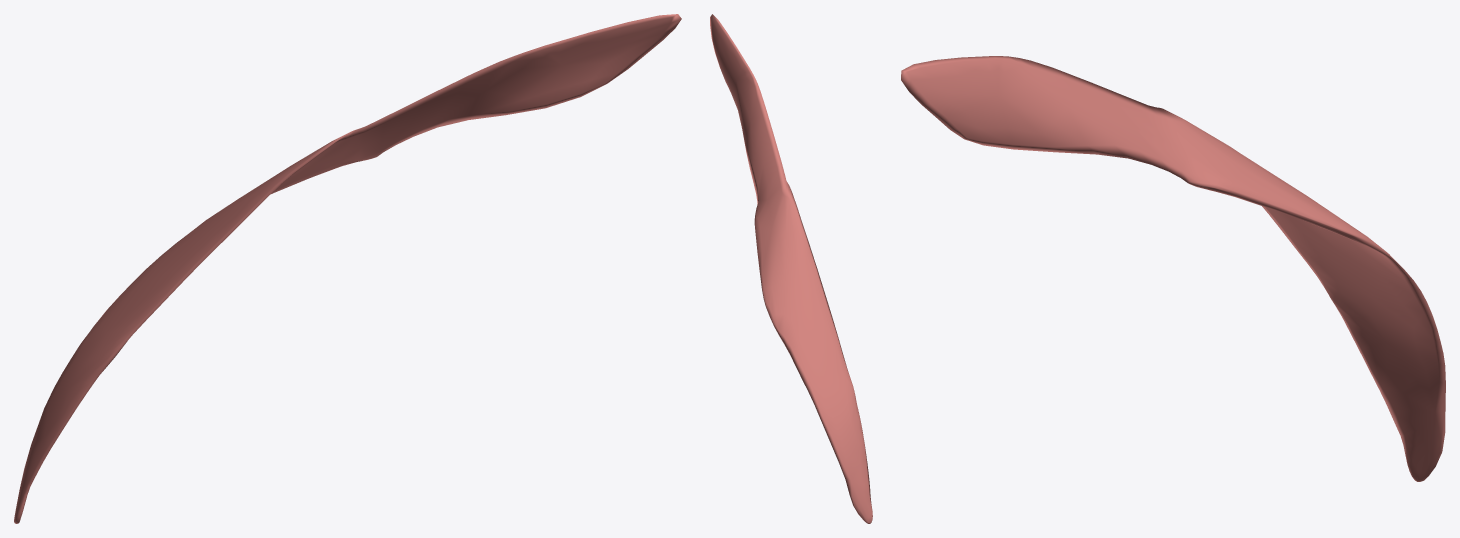
The picture shows the model from 3 angles, left to right: view 1: azimuth 30°, elevation 25°; view 2: azimuth 150°, elevation 25°; view 3: azimuth 270°, elevation 25°; orthographic projection. The views are drawn at different scales.
Parts seen in each view (by area): view 1: ZA_1caa5bec5d53a99f; view 2: ZA_1caa5bec5d53a99f; view 3: ZA_1caa5bec5d53a99f.
Boxes of the visible parts, left/top/right/bottom form: ZA_1caa5bec5d53a99f: left=14, top=14, right=681, bottom=523; ZA_1caa5bec5d53a99f: left=710, top=14, right=872, bottom=523; ZA_1caa5bec5d53a99f: left=901, top=56, right=1445, bottom=481.
Bounding box in the file's own units: 0.0483 × 0.0549 × 0.0393.
